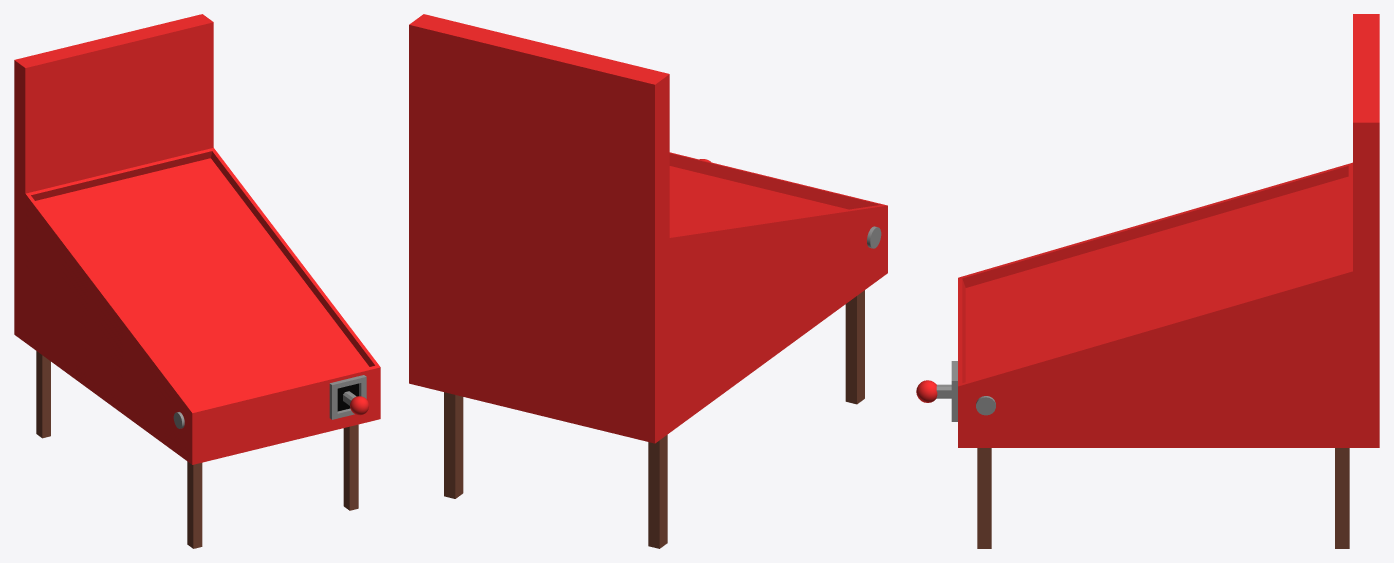
File: Pinball.FBX
3 renders of one model, left to right at view 1: azimuth 30°, elevation 25°; view 2: azimuth 150°, elevation 25°; view 3: azimuth 270°, elevation 25°, orthographic. The views are drawn at different scales.
Parts seen in each view (by area): view 1: pinball; view 2: pinball; view 3: pinball.
Boxes of the visible parts, x1=… form: pinball: x1=14, y1=14, x2=380, y2=548; pinball: x1=409, y1=14, x2=887, y2=548; pinball: x1=916, y1=14, x2=1379, y2=548.
Size of the model in its own units: 0.2011 by 0.3643 by 0.3524.
